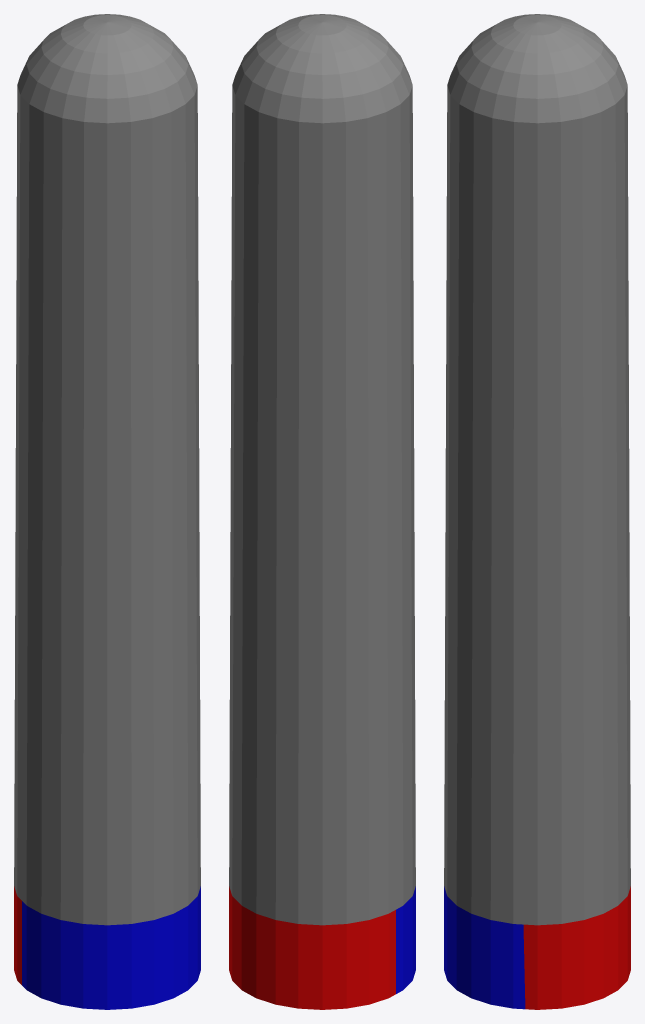
File: R6_joint3.dae
The picture shows the model from 3 angles, left to right: view 1: azimuth 30°, elevation 25°; view 2: azimuth 150°, elevation 25°; view 3: azimuth 270°, elevation 25°; orthographic projection.
Visible parts, largest first — view 1: Group14_1, Group12_1; view 2: Group14_1, Group12_1; view 3: Group14_1, Group12_1.
Boxes of the visible parts, x1,y1,x2,y2 form: Group14_1: (14,14,200,925); Group12_1: (14,886,200,1009); Group14_1: (229,14,415,925); Group12_1: (229,886,415,1009); Group14_1: (444,14,630,925); Group12_1: (444,886,630,1009).
Bounding box in the file's own units: 0.05 × 0.05 × 0.28.
